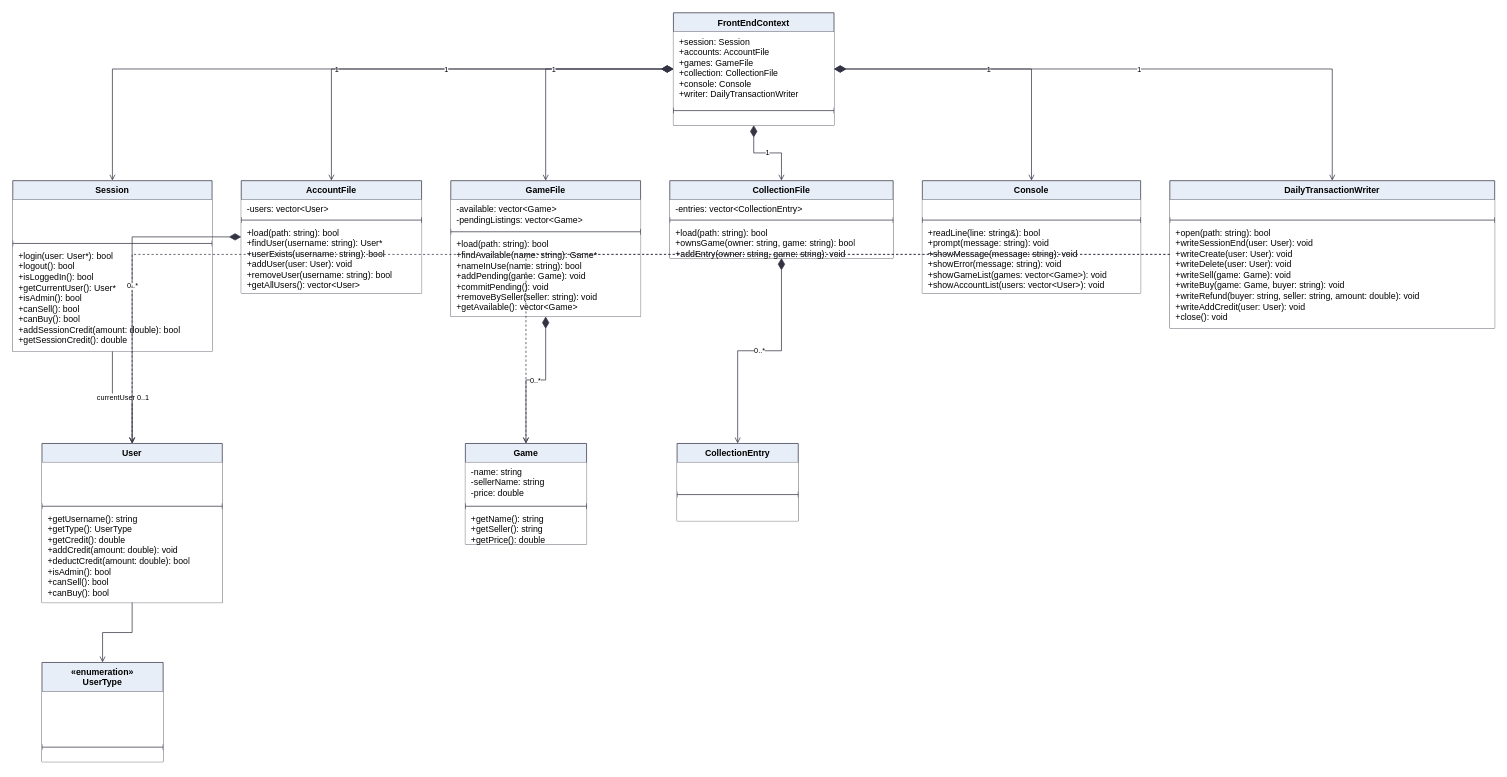
Some shapes in this 1507 by 777 pixel diagram are drawn without their labels. Here are the shapes that lost their labels. From the top down, the centre of each, then its label:
(x=112, y=219): -currentUser: User* -loggedIn: bool -creditAddedThisSession: double
(x=1331, y=208): -out: ofstream
(x=132, y=482): -username: string -type: UserType -credit: double
(x=737, y=476): -ownerName: string -gameName: string
(x=737, y=508): +getOwner(): string +getGameName(): string
(x=102, y=717): AA FS BS SS
